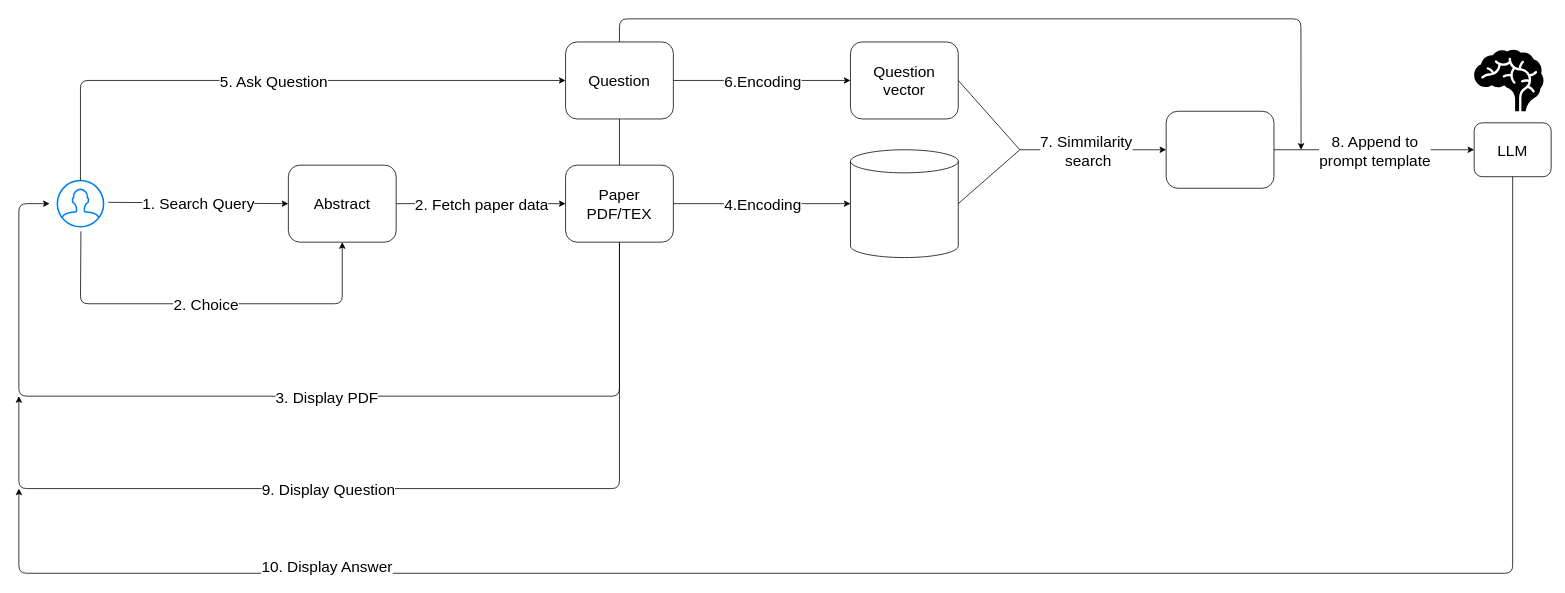
This 1565x593 diagram has some shape labels left out. The shapes that lost their labels are listed below. From the top down, each one's centre as x and y in pixels, then its label:
point (1219, 149): Relevant doc context
point (904, 203): Paper Vector DB
